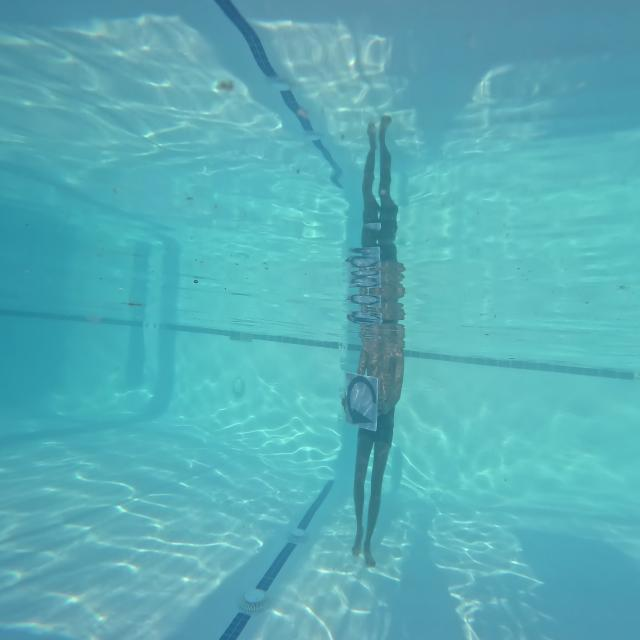blue_side: (343, 371, 381, 429)
